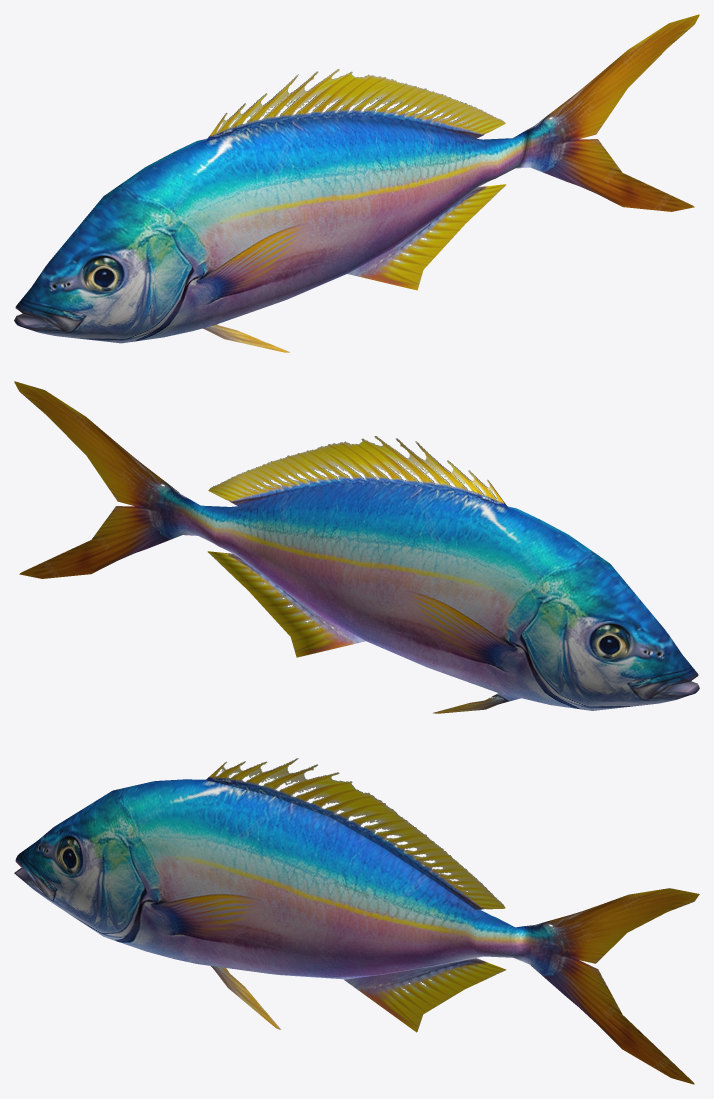
File: BluePurpleFish.fbx
3 views of the same model, one above another, from view 1: azimuth 30°, elevation 25°; view 2: azimuth 150°, elevation 25°; view 3: azimuth 330°, elevation 25° (orthographic).
Visible parts, largest first — view 1: BluePurpleFish.001; view 2: BluePurpleFish.001; view 3: BluePurpleFish.001.
Part boxes in pixels (x1,y1,x2,y2): BluePurpleFish.001: [14, 14, 699, 352]; BluePurpleFish.001: [14, 381, 699, 713]; BluePurpleFish.001: [14, 758, 699, 1084].
Size of the model in its own units: 481 by 185 by 58.3.
